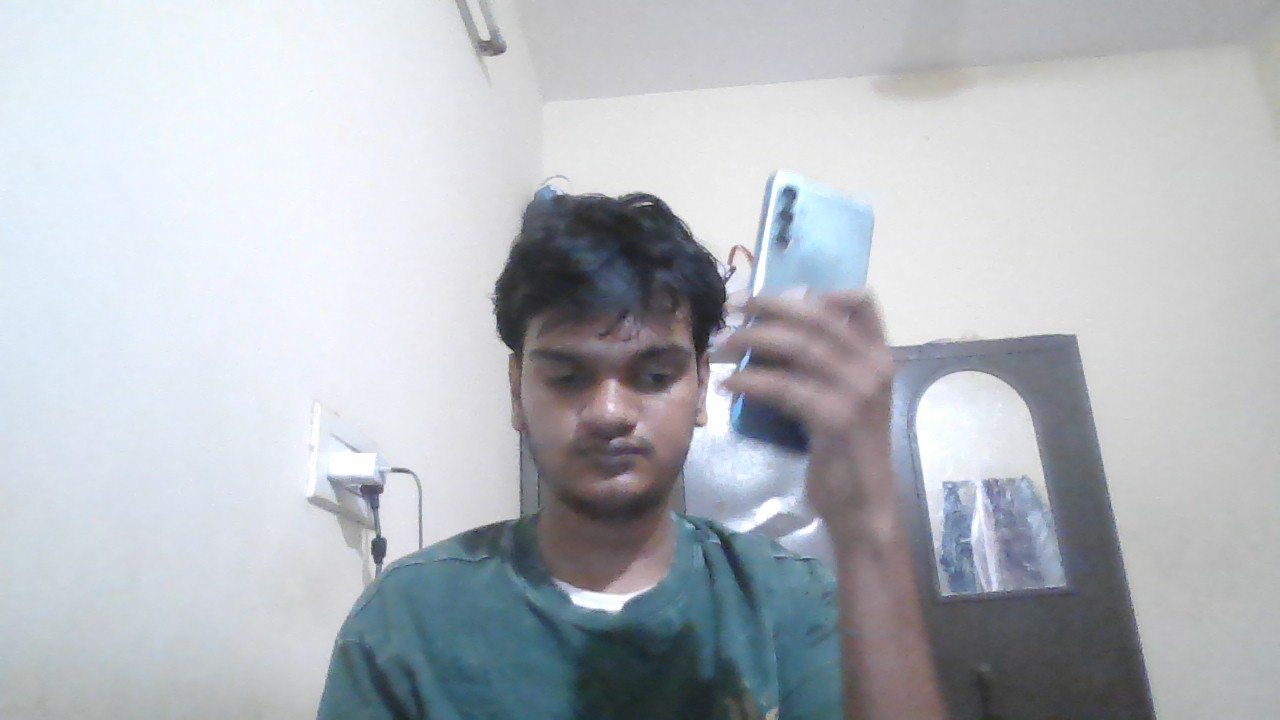phone: (757, 166, 877, 294)
